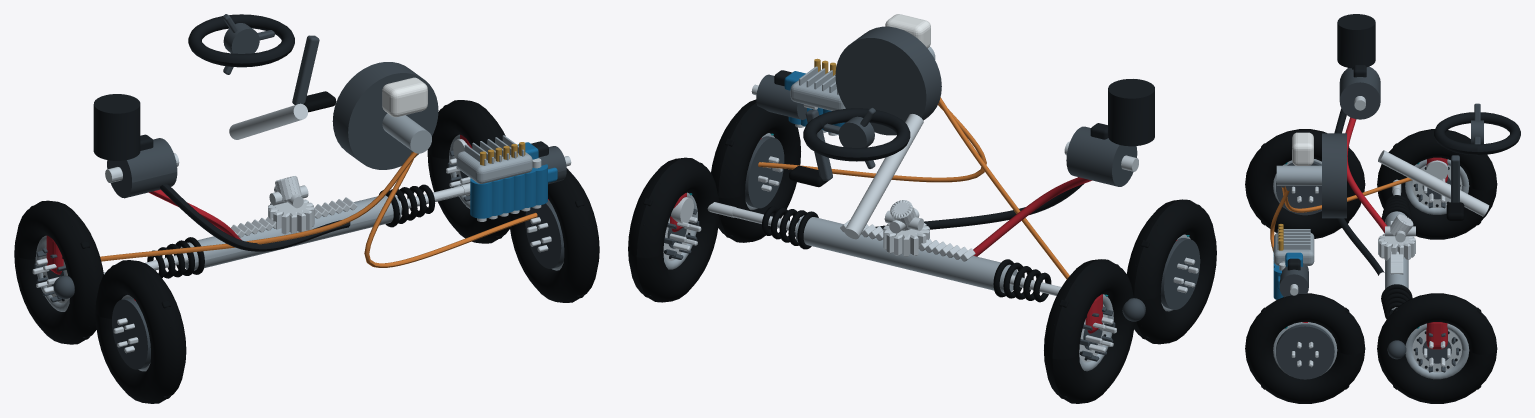
Rendered from generic_steering_brakes_wheels.glb.
3 views of the same model, side by side, from view 1: azimuth 30°, elevation 25°; view 2: azimuth 150°, elevation 25°; view 3: azimuth 270°, elevation 25° (orthographic). The views are drawn at different scales.
Parts seen in each view (by area): view 1: system_mesh__wheels_tires__tire_3, system_mesh__wheels_tires__tire_1, system_mesh__brake_booster__vacuum_shell, system_mesh__wheels_tires__tire_4, system_mesh__wheels_tires__tire_2, system_mesh__power_steering_reservoir__reservoir, system_mesh__steering_rack__rack_housing, system_mesh__steering_wheel__rim, system_mesh__power_steering_pump__motor_case, system_mesh__rear_drum_context__left_drum, system_mesh__brake_lines__front_split, system_mesh__steering_hoses__return (+12 smaller); view 2: system_mesh__wheels_tires__tire_2, system_mesh__wheels_tires__tire_1, system_mesh__brake_booster__vacuum_shell, system_mesh__wheels_tires__tire_3, system_mesh__wheels_tires__tire_4, system_mesh__steering_rack__rack_housing, system_mesh__power_steering_reservoir__reservoir, system_mesh__steering_wheel__rim, system_mesh__power_steering_pump__motor_case, system_mesh__steering_column__column, system_mesh__rear_drum_context__left_drum, system_mesh__rear_drum_context__right_drum (+11 smaller); view 3: system_mesh__wheels_tires__tire_4, system_mesh__wheels_tires__tire_2, system_mesh__wheels_tires__tire_1, system_mesh__wheels_tires__tire_3, system_mesh__rear_drum_context__right_drum, system_mesh__brake_booster__vacuum_shell, system_mesh__power_steering_reservoir__reservoir, system_mesh__steering_wheel__rim, system_mesh__power_steering_pump__motor_case, system_mesh__steering_column__column, system_mesh__wheels_tires__rim_2, system_mesh__master_cylinder__hydraulic_bore (+22 smaller).
Part boxes in pixels (x1,y1,x2,y2): system_mesh__wheels_tires__tire_3: (95, 260, 186, 403); system_mesh__wheels_tires__tire_1: (14, 200, 103, 344); system_mesh__brake_booster__vacuum_shell: (332, 62, 438, 169); system_mesh__wheels_tires__tire_4: (508, 168, 599, 302); system_mesh__wheels_tires__tire_2: (427, 100, 509, 243); system_mesh__power_steering_reservoir__reservoir: (93, 94, 140, 160); system_mesh__steering_rack__rack_housing: (181, 195, 401, 270); system_mesh__steering_wheel__rim: (188, 14, 294, 67); system_mesh__power_steering_pump__motor_case: (107, 138, 177, 198); system_mesh__rear_drum_context__left_drum: (112, 298, 150, 369); system_mesh__brake_lines__front_split: (100, 152, 417, 261); system_mesh__steering_hoses__return: (159, 184, 350, 251); system_mesh__wheels_tires__tire_2: (628, 157, 719, 302); system_mesh__wheels_tires__tire_1: (1044, 259, 1134, 403); system_mesh__brake_booster__vacuum_shell: (835, 26, 941, 135); system_mesh__wheels_tires__tire_3: (1127, 199, 1216, 344); system_mesh__wheels_tires__tire_4: (711, 99, 800, 242); system_mesh__steering_rack__rack_housing: (795, 215, 1017, 292); system_mesh__power_steering_reservoir__reservoir: (1108, 79, 1154, 146); system_mesh__steering_wheel__rim: (803, 108, 910, 161); system_mesh__power_steering_pump__motor_case: (1066, 126, 1137, 186); system_mesh__steering_column__column: (844, 114, 923, 239); system_mesh__rear_drum_context__left_drum: (1160, 238, 1200, 309); system_mesh__rear_drum_context__right_drum: (745, 136, 784, 208); system_mesh__wheels_tires__tire_4: (1245, 293, 1365, 403); system_mesh__wheels_tires__tire_2: (1377, 293, 1497, 403); system_mesh__wheels_tires__tire_1: (1377, 129, 1497, 239); system_mesh__wheels_tires__tire_3: (1245, 129, 1365, 238); system_mesh__rear_drum_context__right_drum: (1276, 324, 1334, 379); system_mesh__brake_booster__vacuum_shell: (1322, 133, 1346, 218); system_mesh__power_steering_reservoir__reservoir: (1337, 14, 1375, 68); system_mesh__steering_wheel__rim: (1434, 112, 1520, 155); system_mesh__power_steering_pump__motor_case: (1339, 66, 1380, 119); system_mesh__steering_column__column: (1378, 150, 1489, 216); system_mesh__wheels_tires__rim_2: (1405, 323, 1469, 379); system_mesh__master_cylinder__hydraulic_bore: (1276, 165, 1321, 185).
Size of the model in its own units: 6.06 by 3.31 by 3.76.
